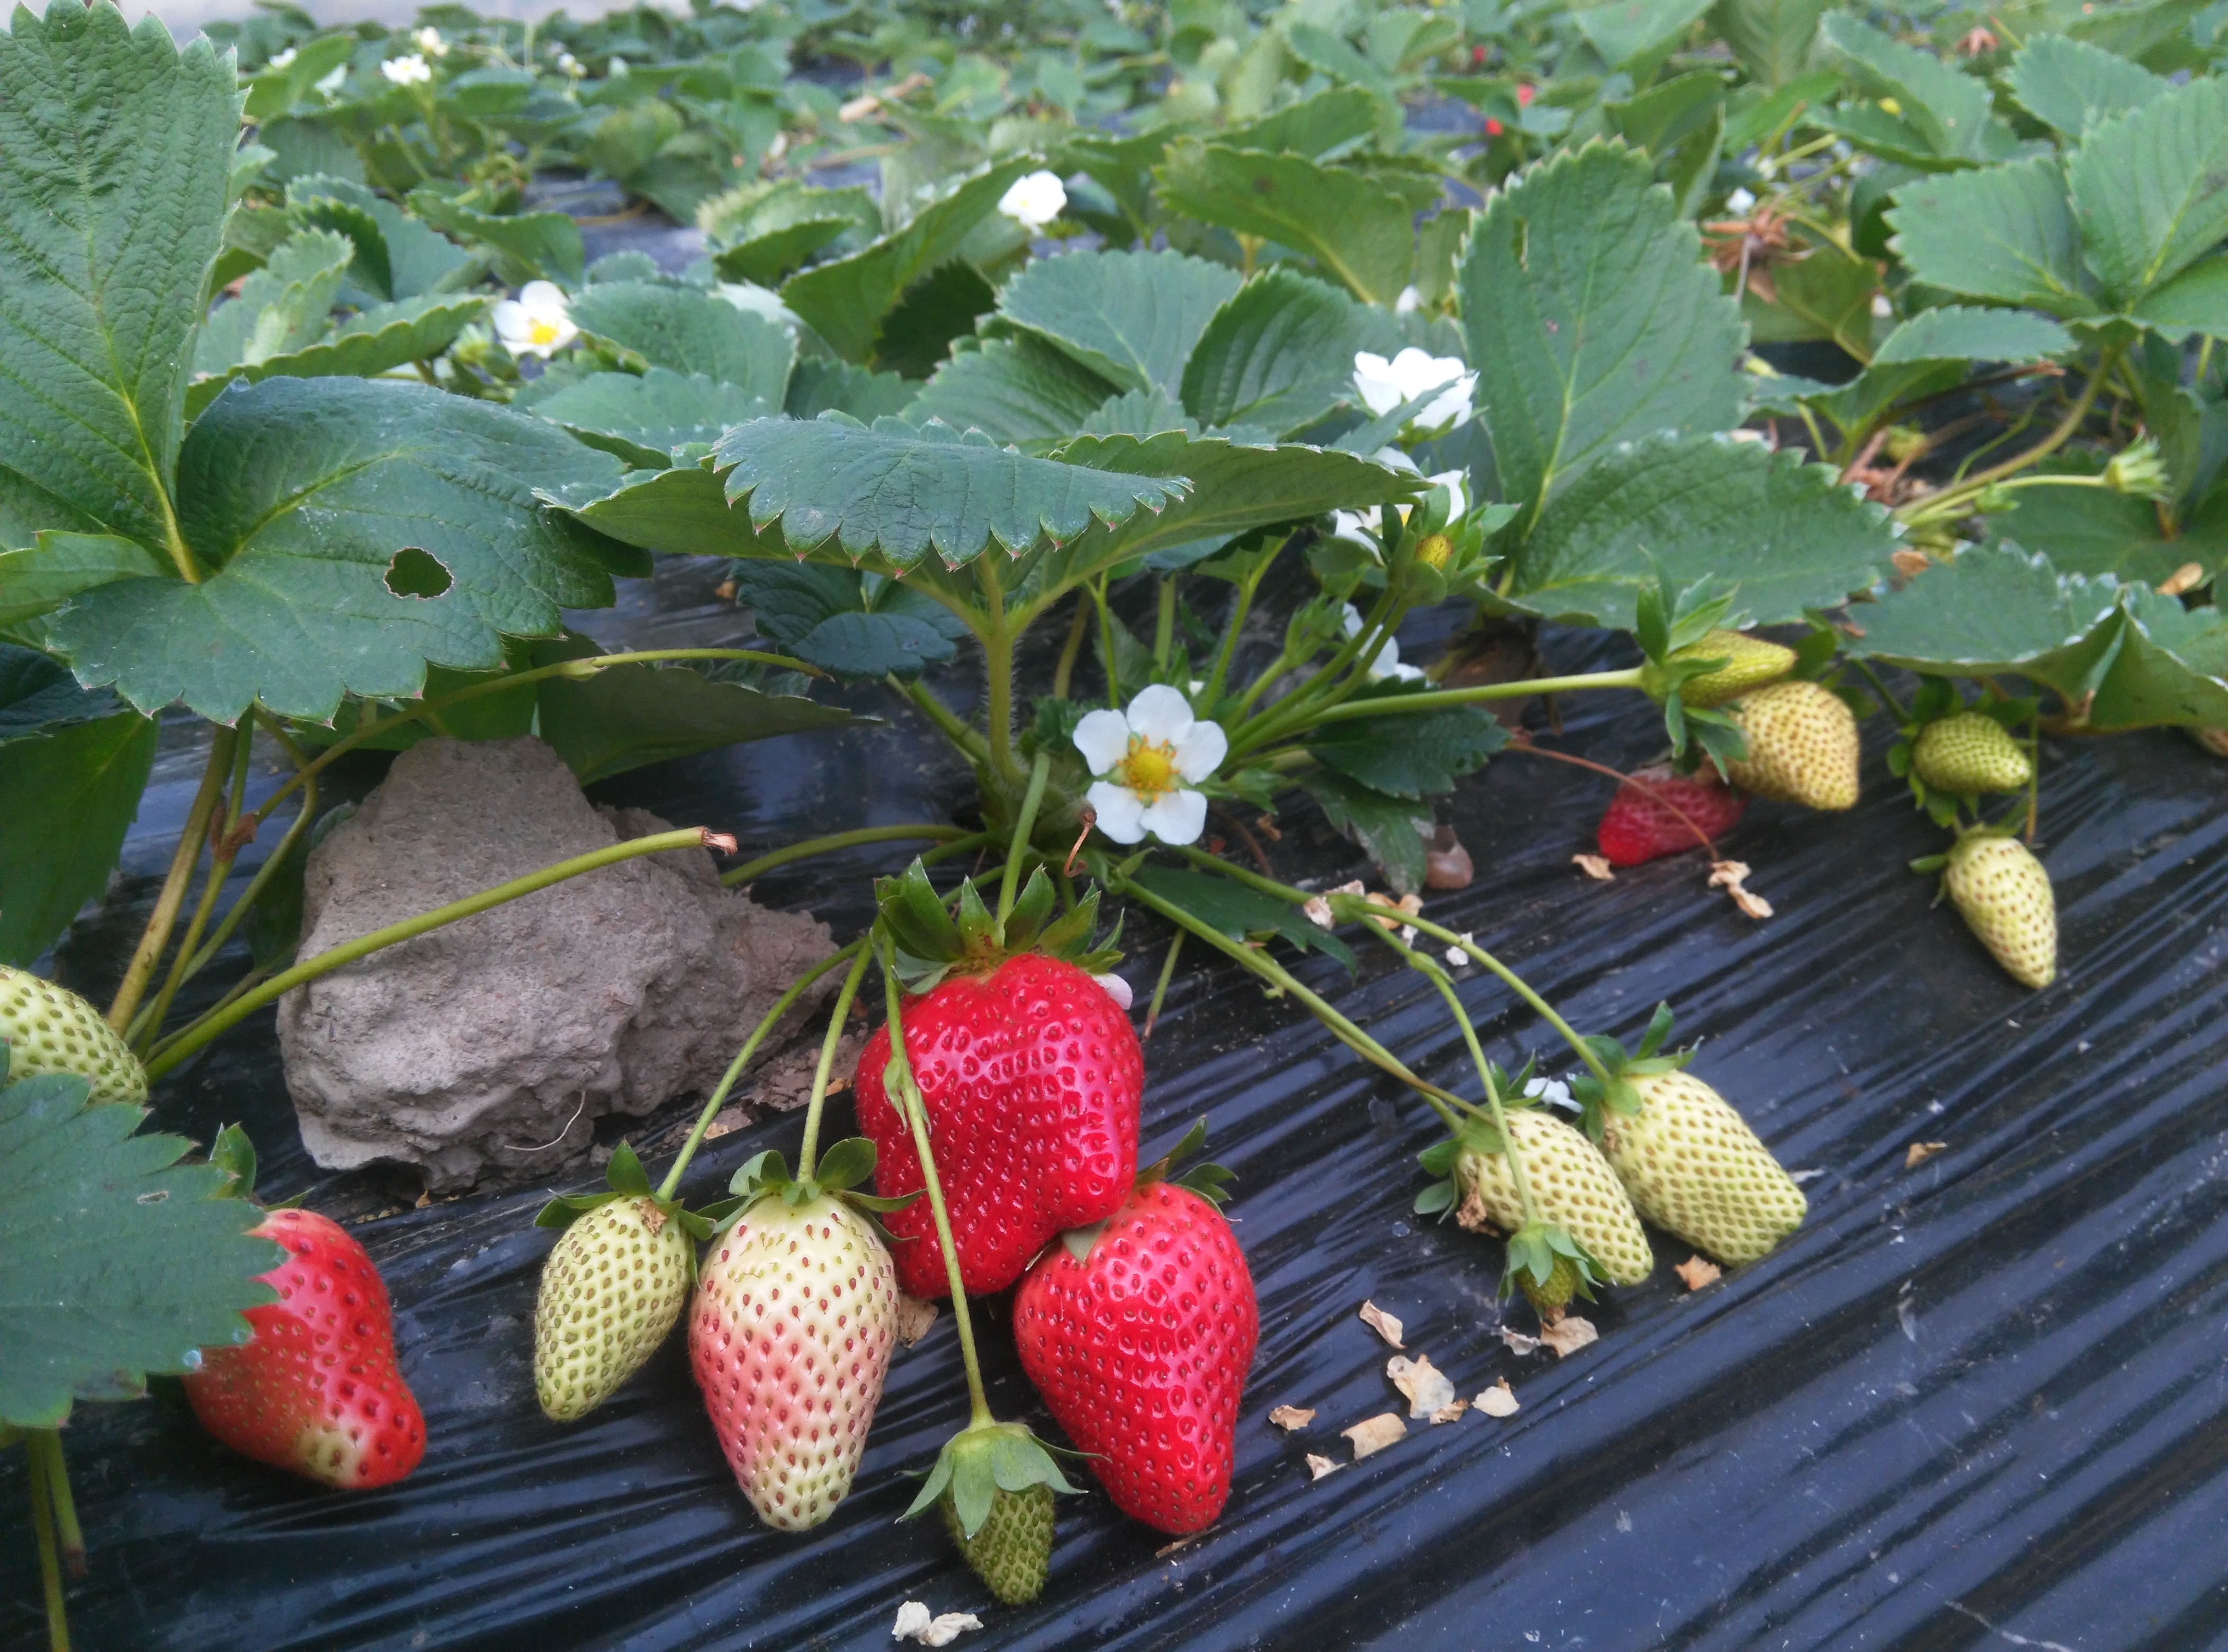StrawberryCone: (1012, 1168, 1272, 1541)
StrawberryIrremovable: (175, 1203, 432, 1492), (692, 1183, 899, 1531), (1589, 1052, 1812, 1270), (1442, 1091, 1655, 1300), (528, 1192, 694, 1430), (930, 1421, 1065, 1602), (1938, 826, 2063, 991), (1737, 673, 1871, 812), (1640, 609, 1805, 705), (54, 979, 154, 1114), (1907, 701, 2034, 805)
StrawberryOther: (1593, 731, 1749, 873)
StrawberryRemovable: (859, 951, 1150, 1295), (1017, 1178, 1265, 1537), (1598, 736, 1749, 873)
StrawberryWedge: (854, 946, 1152, 1303)
